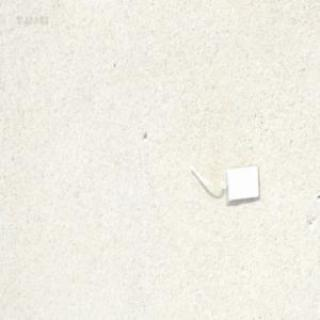LuggageTagtrack_idkeyframe: (184, 159, 259, 205)
